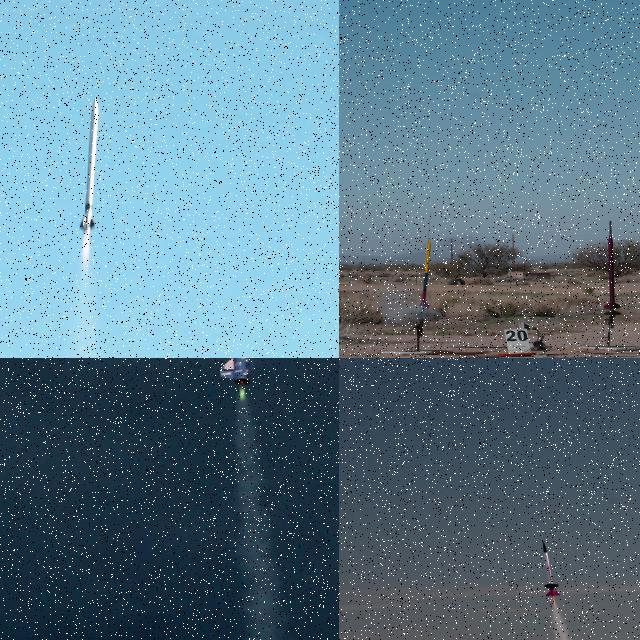Rocket: (80, 97, 99, 231), (603, 233, 621, 311), (218, 358, 258, 387), (542, 540, 561, 596), (419, 238, 431, 308)
